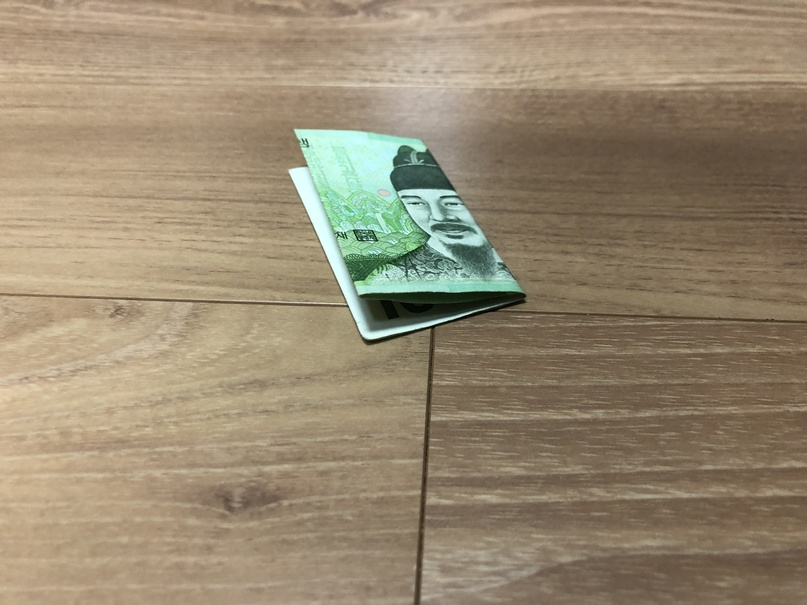10000won: (289, 129, 528, 344)
